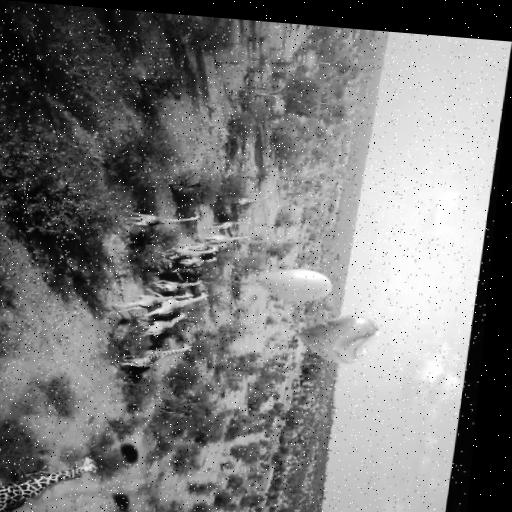balloon: (296, 311, 382, 367), (258, 267, 335, 304)
